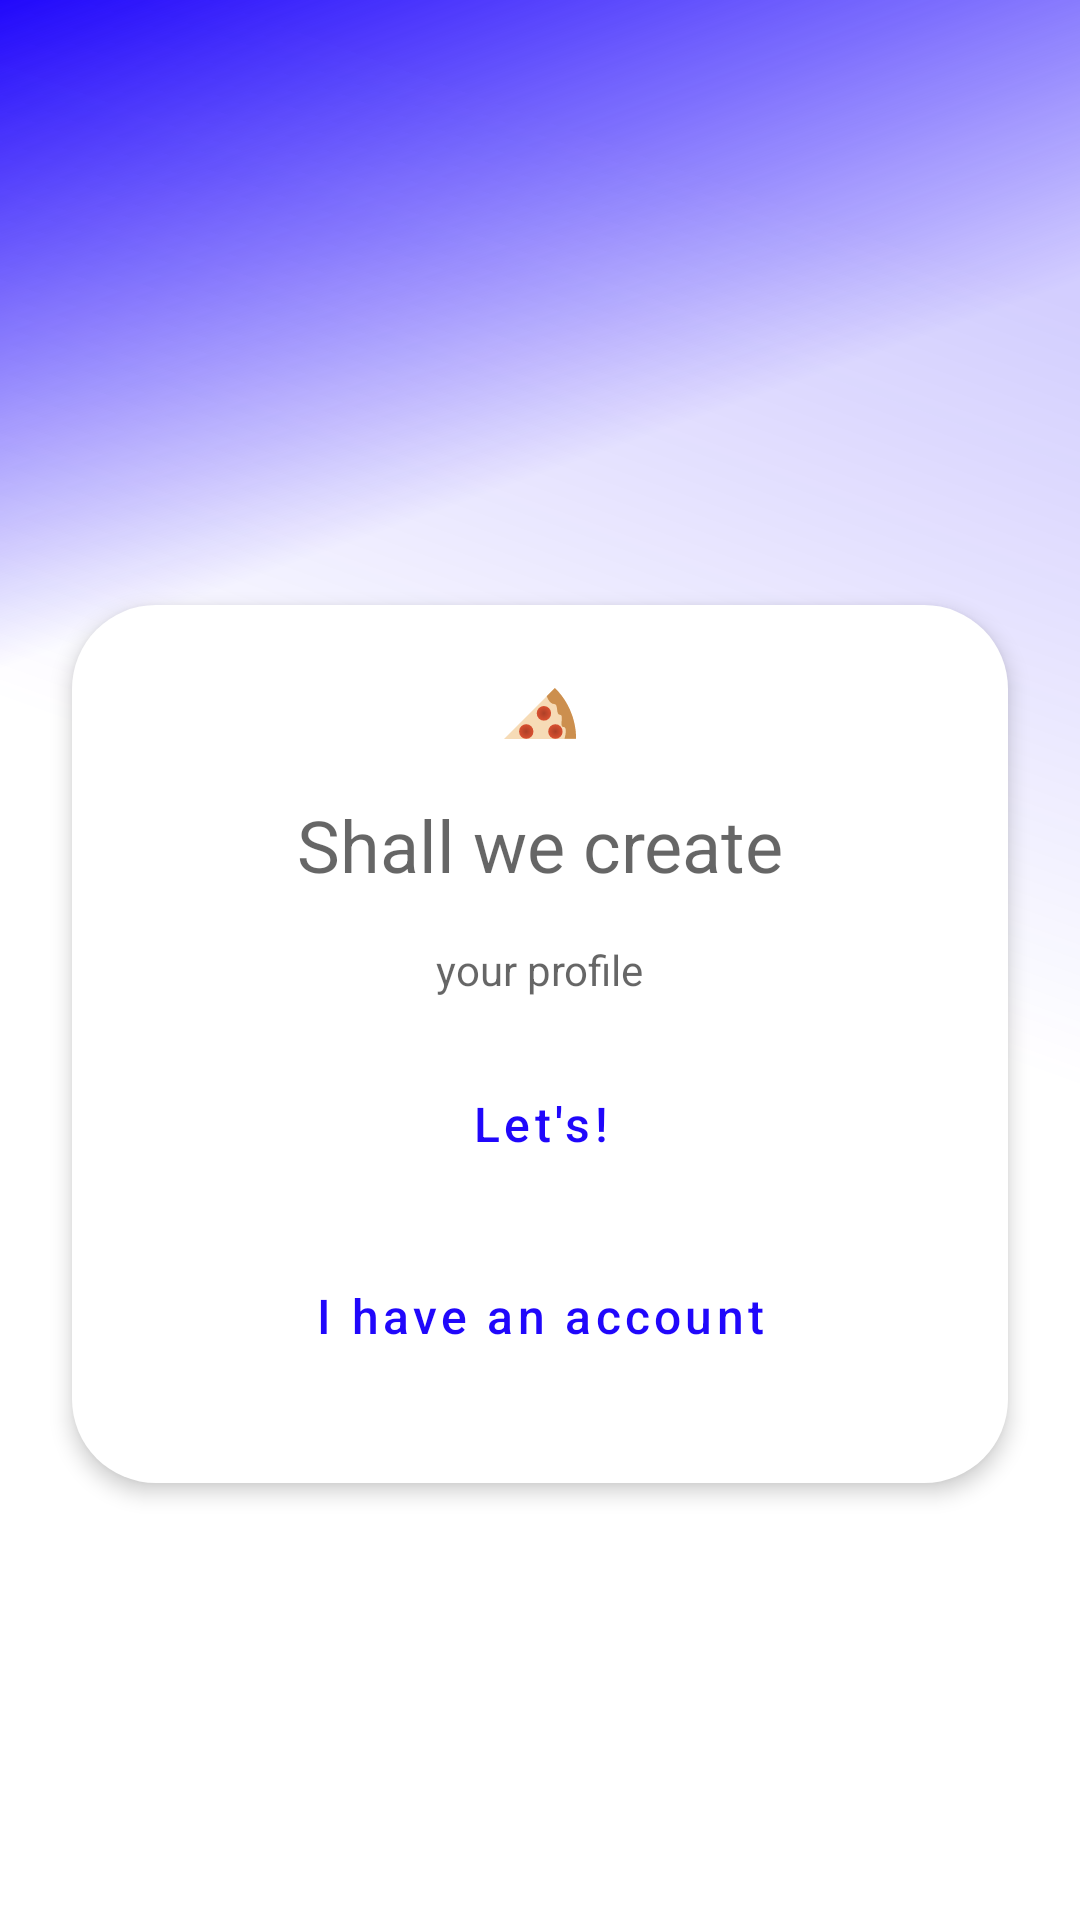

Icons on this 1080 x 1920 Android screen, each with the point to tap as point (x, y):
pizza: point (540, 713)
